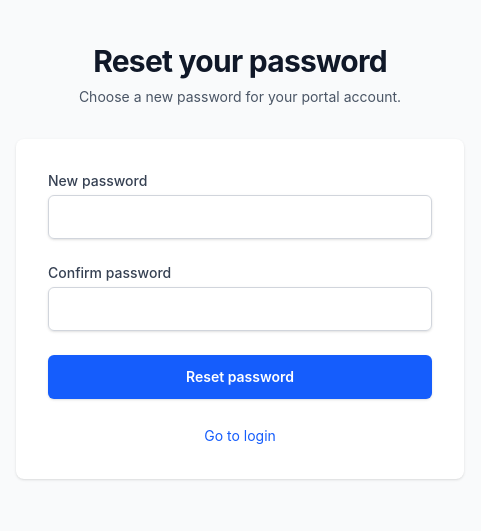
it: ResetPasswordPage › shows error when passwords do not match
In the password field labelled "New password": x=240, y=217 [48,195,432,239], type "Str0ng!Pass"
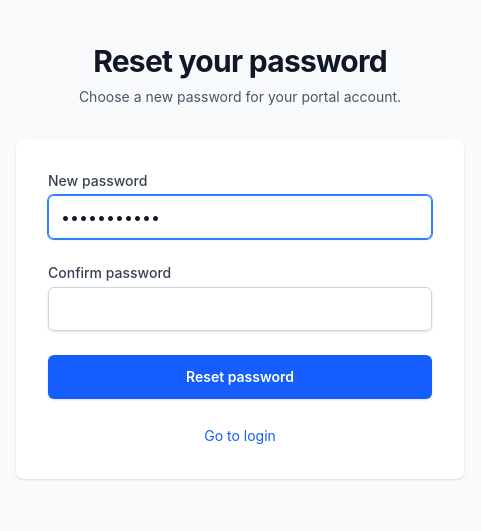
In the password field labelled "Confirm password": x=240, y=309 [48,287,432,331], type "Different!Pass"
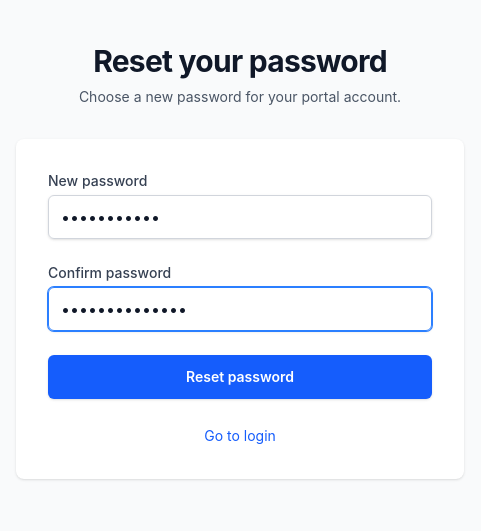
Click the button "Reset password": x=240, y=377 [48,355,432,399]
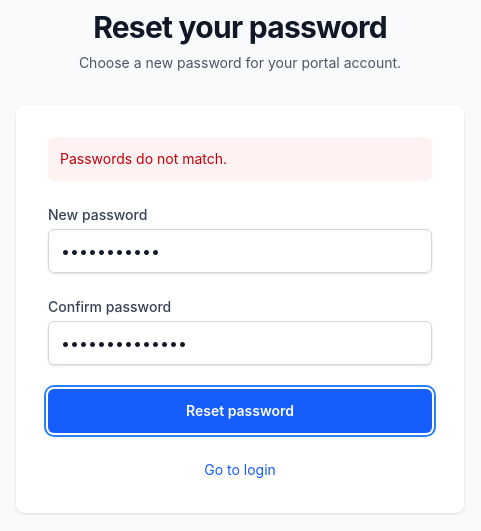
Result: the message shows "do not match" at [60,150,227,167]
